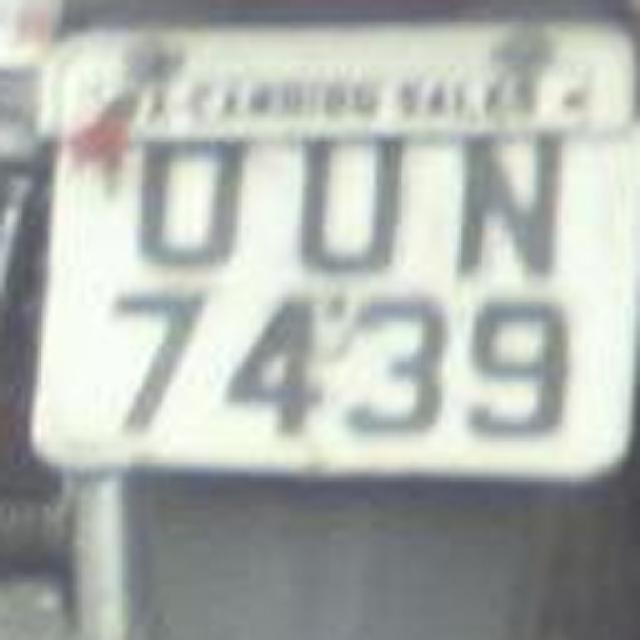3: (308, 268, 484, 448)
4: (200, 272, 355, 452)
7: (85, 276, 220, 452)
9: (444, 272, 596, 448)
N: (428, 111, 572, 284)
U: (264, 116, 431, 289), (116, 112, 269, 296)
